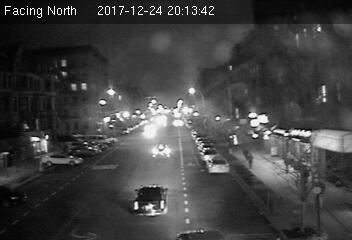car: (132, 184, 170, 217), (150, 143, 173, 160), (207, 157, 229, 174)
